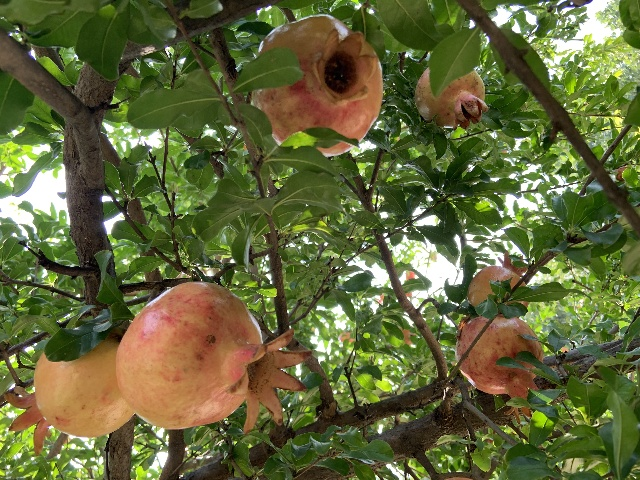early-fruit: (414, 67, 488, 130), (467, 250, 529, 305)
ripe: (116, 282, 311, 435), (248, 15, 383, 153), (3, 338, 134, 457), (455, 315, 543, 424)
